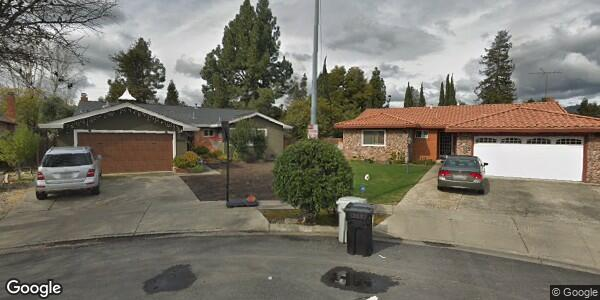Steel_Pole: (306, 1, 322, 136)
